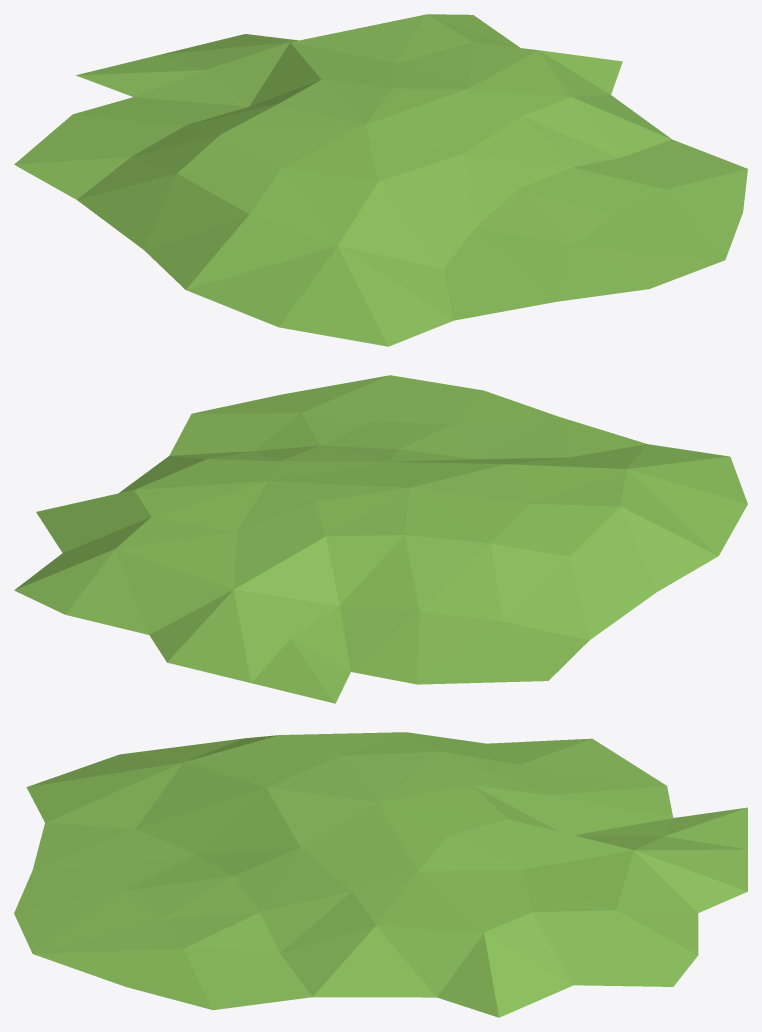
File: MT_Mountain_S_c_11.fbx
3 views of the same model, one above another, from view 1: azimuth 30°, elevation 25°; view 2: azimuth 150°, elevation 25°; view 3: azimuth 270°, elevation 25° (orthographic). The views are drawn at different scales.
Visible parts, largest first — view 1: MT_Mountain_S_c_11; view 2: MT_Mountain_S_c_11; view 3: MT_Mountain_S_c_11.
Part boxes in pixels (x1=…): MT_Mountain_S_c_11: x1=14, y1=14, x2=747, y2=346; MT_Mountain_S_c_11: x1=14, y1=375, x2=747, y2=703; MT_Mountain_S_c_11: x1=14, y1=732, x2=747, y2=1017.
Size of the model in its own units: 2143 by 214 by 2386.
